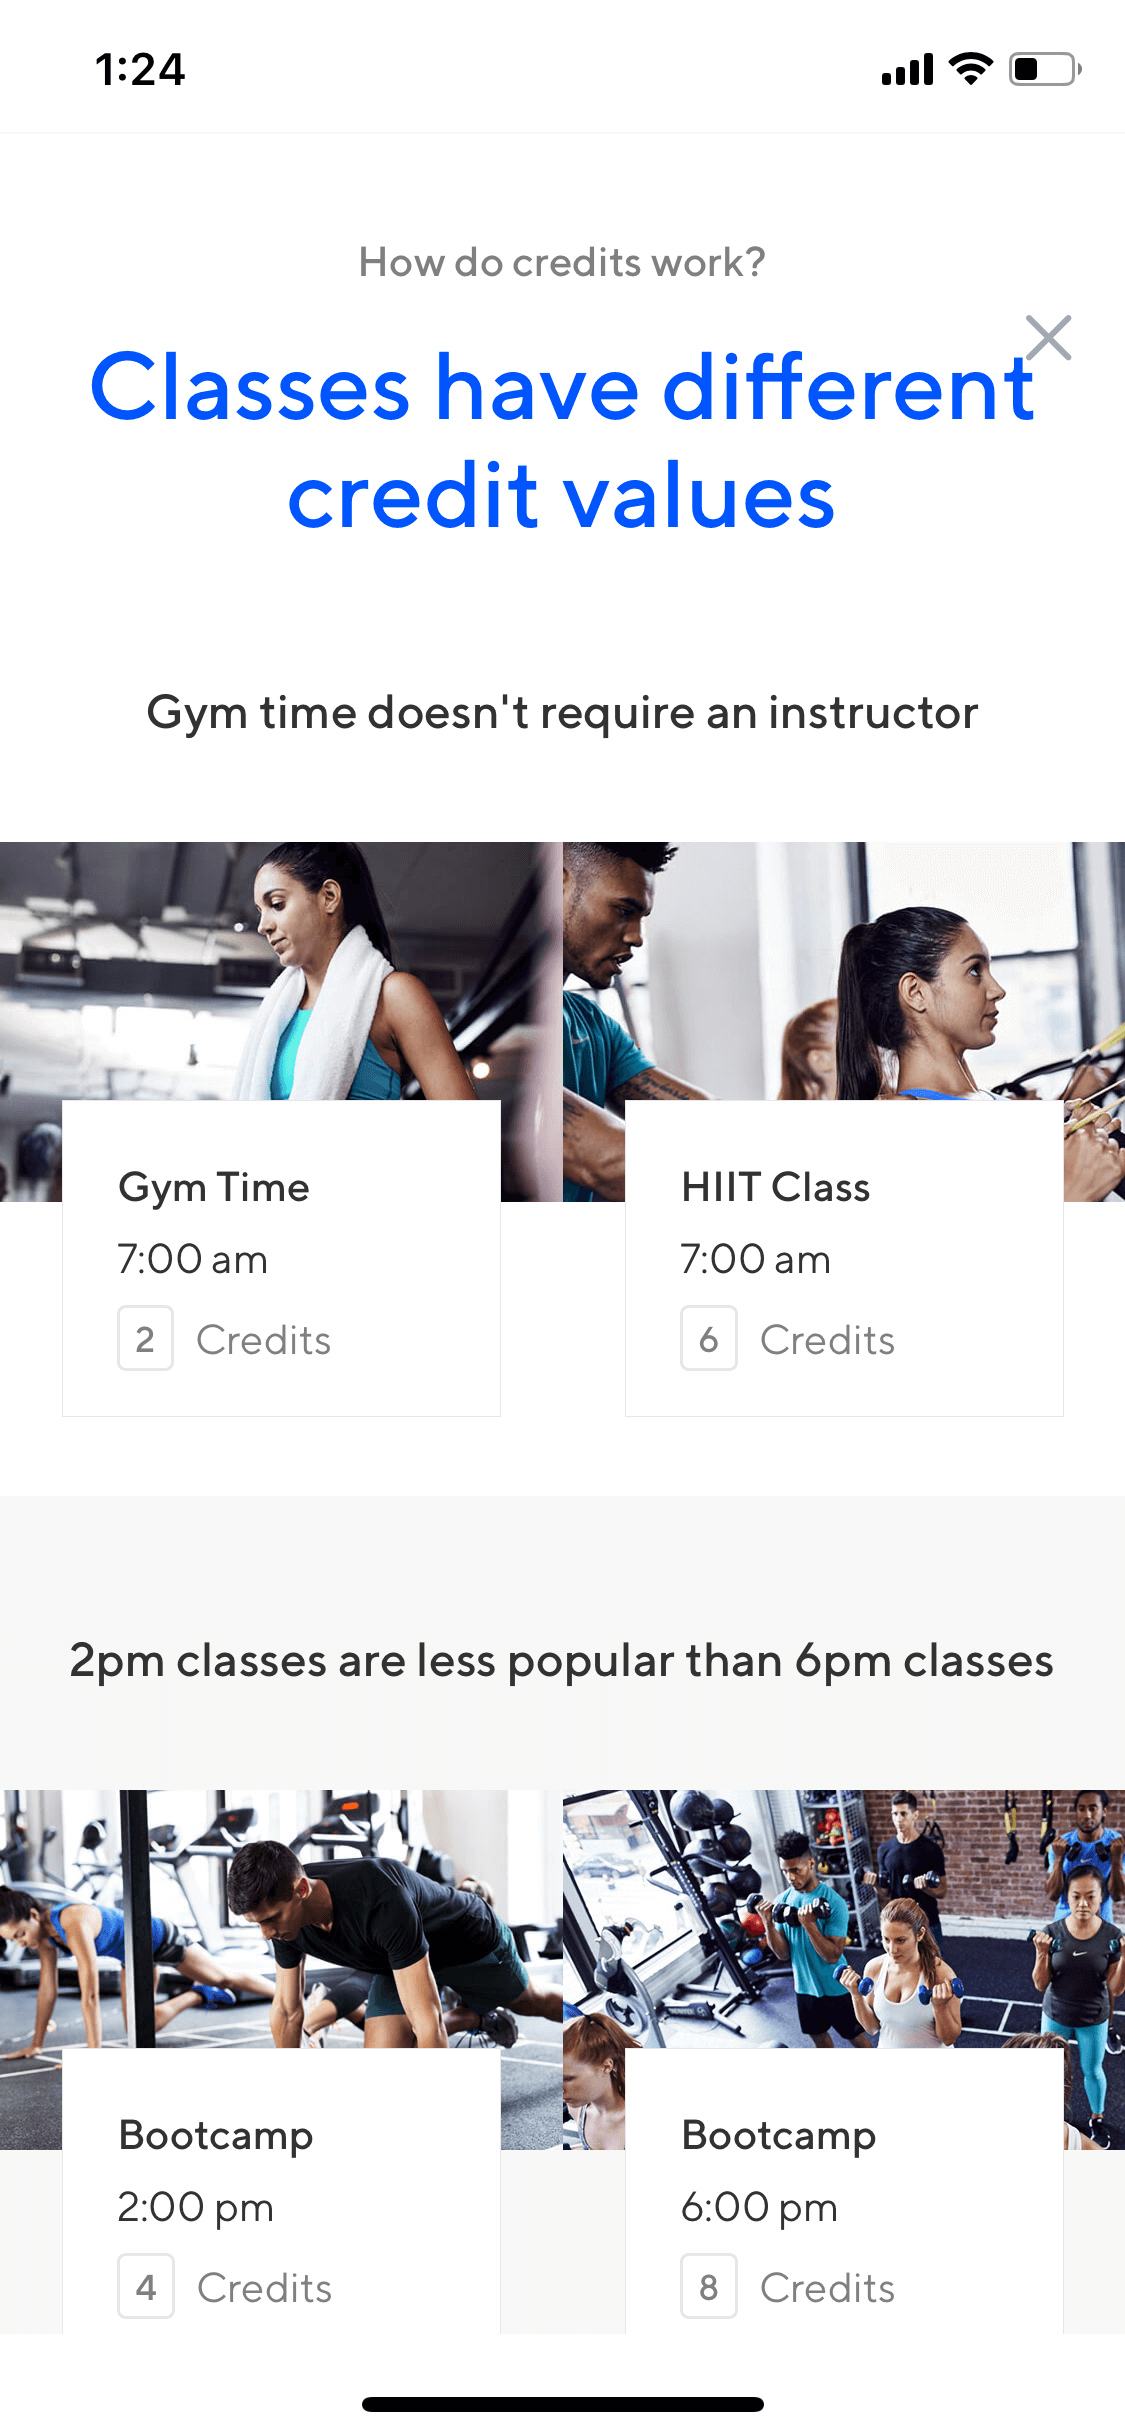FAB (Floating Action Button): (988, 280, 1103, 388)
